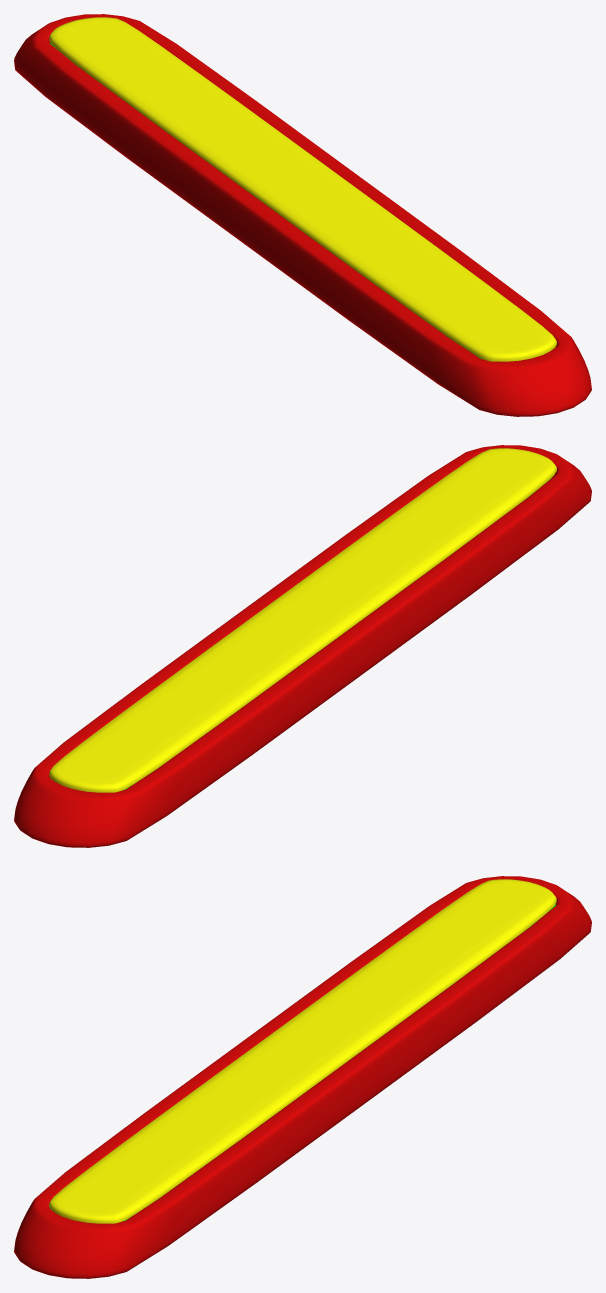
The model's file is Lightstrip.fbx.
3 views of the same model, one above another, from view 1: azimuth 30°, elevation 25°; view 2: azimuth 150°, elevation 25°; view 3: azimuth 330°, elevation 25° (orthographic).
Parts seen in each view (by area): view 1: Lightstrip; view 2: Lightstrip; view 3: Lightstrip.
Boxes of the visible parts, left/top/right/bottom form: Lightstrip: left=14, top=14, right=591, bottom=416; Lightstrip: left=14, top=445, right=591, bottom=847; Lightstrip: left=14, top=876, right=591, bottom=1278.
Size of the model in its own units: 29.11 by 9.28 by 205.
